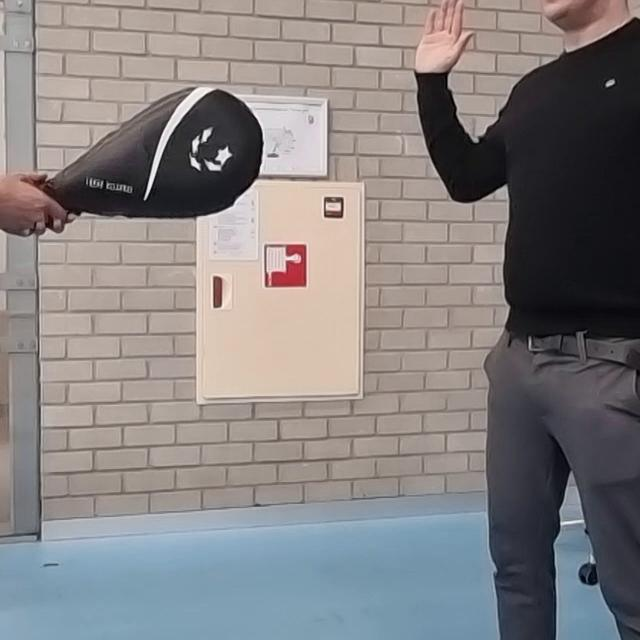paddle: (36, 88, 264, 220)
